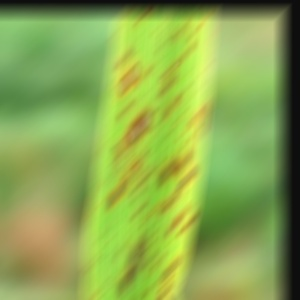Bacterial_Leaf_Blight: (128, 233, 144, 274), (196, 97, 209, 147), (127, 113, 148, 143), (105, 181, 125, 211), (120, 65, 136, 95), (159, 191, 178, 215), (114, 135, 129, 165), (118, 268, 133, 297), (160, 159, 173, 187), (175, 150, 190, 174), (181, 42, 194, 63), (180, 169, 193, 190), (164, 258, 177, 279), (184, 211, 197, 229), (156, 285, 171, 300), (167, 97, 177, 116), (166, 219, 178, 234), (175, 207, 185, 225), (145, 281, 156, 296), (189, 23, 199, 39), (163, 64, 174, 78), (191, 109, 200, 126), (175, 25, 185, 40), (144, 254, 154, 269), (134, 188, 143, 204), (133, 203, 143, 217), (138, 69, 147, 84), (180, 221, 189, 236), (157, 37, 166, 51), (160, 277, 172, 287), (142, 168, 149, 185), (118, 52, 127, 65), (128, 169, 136, 183), (120, 104, 129, 116), (113, 249, 125, 258), (132, 179, 141, 191), (179, 85, 189, 95), (137, 13, 146, 23), (200, 14, 209, 24), (135, 155, 144, 165), (143, 233, 152, 243), (143, 243, 153, 252), (87, 209, 97, 218), (82, 260, 90, 271), (179, 129, 188, 138), (182, 139, 191, 148), (96, 281, 105, 290), (153, 257, 163, 265), (111, 27, 119, 37), (111, 172, 119, 182), (121, 157, 129, 167), (194, 83, 202, 93), (150, 60, 157, 71), (153, 161, 160, 172), (145, 111, 152, 122), (201, 65, 209, 74), (150, 205, 158, 214), (143, 215, 151, 224), (144, 226, 153, 234), (153, 264, 162, 272), (149, 95, 157, 104), (100, 196, 108, 205), (118, 242, 126, 251), (135, 168, 141, 180), (169, 123, 177, 132), (155, 117, 162, 127), (107, 281, 114, 291), (157, 223, 164, 233), (177, 256, 184, 266), (105, 251, 113, 259), (182, 70, 189, 79), (177, 111, 184, 120), (89, 260, 96, 269), (91, 291, 98, 300), (160, 99, 166, 109), (160, 25, 167, 33), (191, 129, 198, 137), (170, 234, 177, 242), (130, 145, 137, 153), (103, 175, 110, 183), (174, 284, 181, 292), (125, 165, 131, 174), (144, 154, 150, 163), (154, 24, 161, 31), (113, 274, 120, 281), (136, 279, 143, 286), (133, 293, 140, 300), (172, 135, 179, 142), (161, 135, 167, 143), (99, 232, 105, 239), (111, 233, 117, 239)
